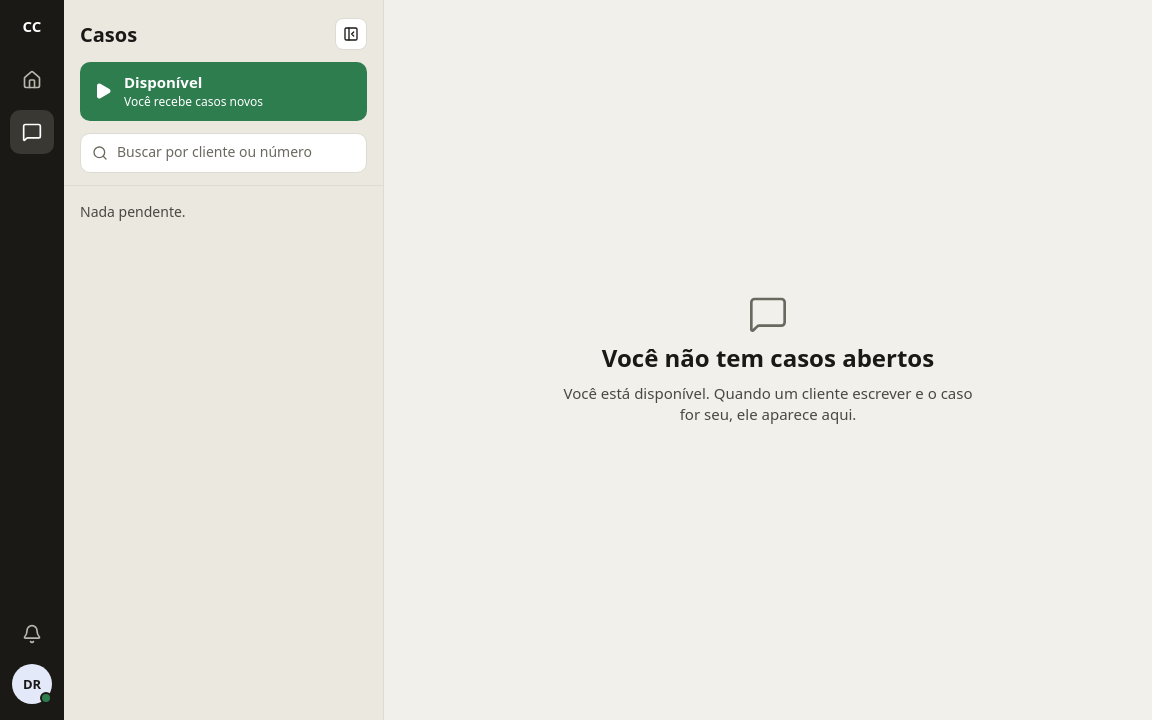
Test: Workspace in Portuguese (slice 23) › says there is no open case, and why once she pauses
Expected: the heading "Você não tem casos abertos" is shown, [602,344,934,373]
Expected: the text "Você está disponível. Quando um cliente escrever e o caso for seu, ele aparece aqui." is shown, [563,383,972,424]
Click the button with aria-label "Disponível. Pausar casos novos" at {"x": 224, "y": 91}, box [80,62,367,120]
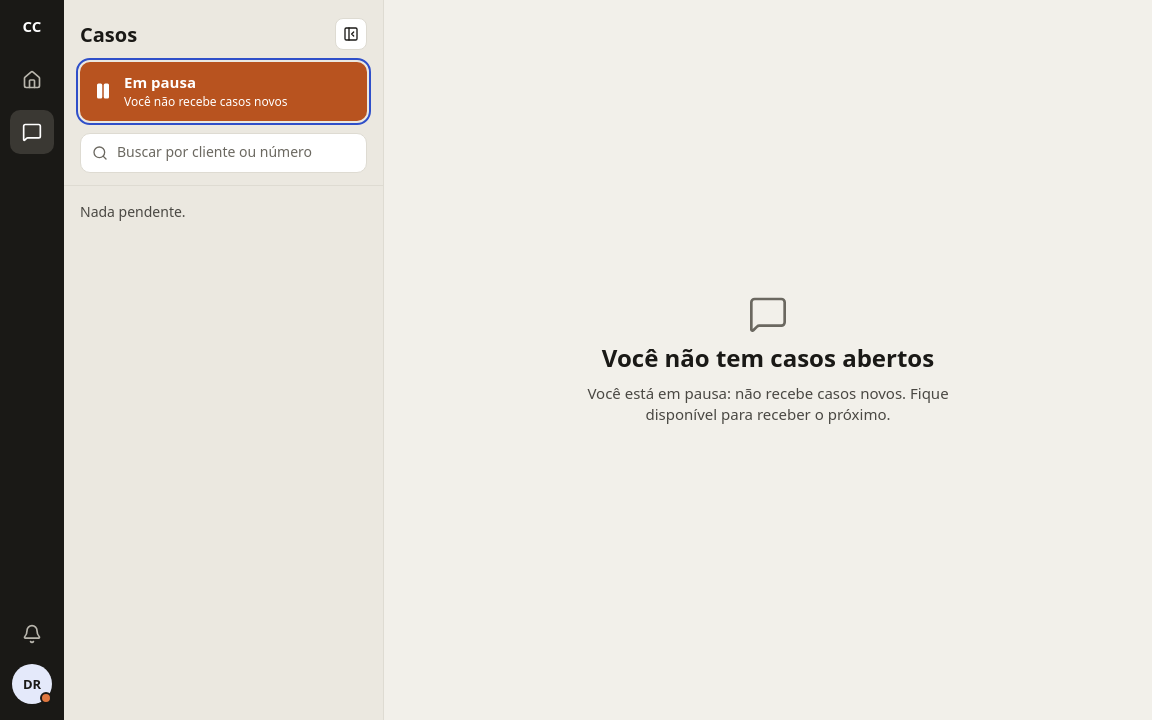
Expected: the text "Você está em pausa: não recebe casos novos. Fique disponível para receber o próximo." is shown, [587,383,949,424]
